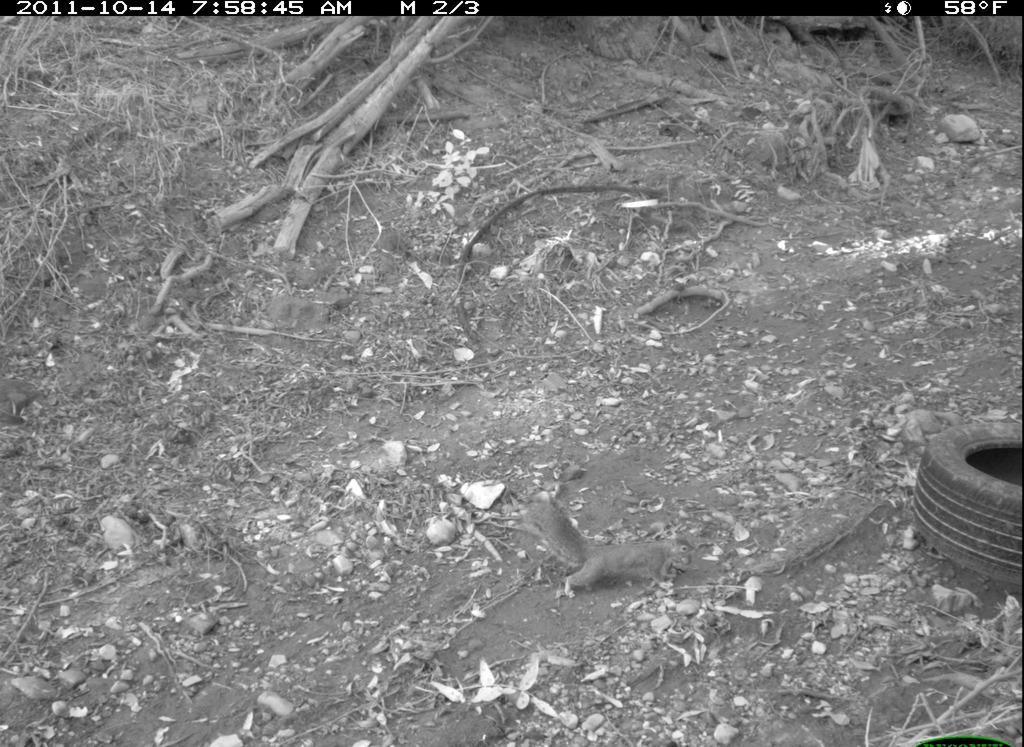squirrel: (504, 479, 711, 614)
